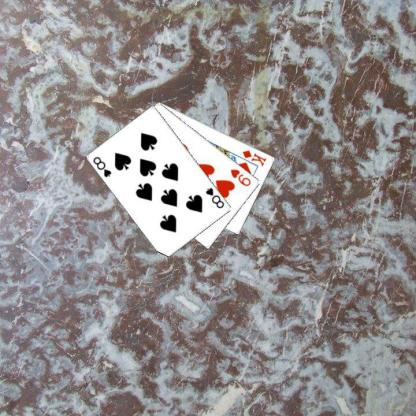8S: (203, 185, 226, 210), (91, 154, 113, 178)
9H: (228, 166, 253, 188)
KD: (240, 147, 267, 168)
